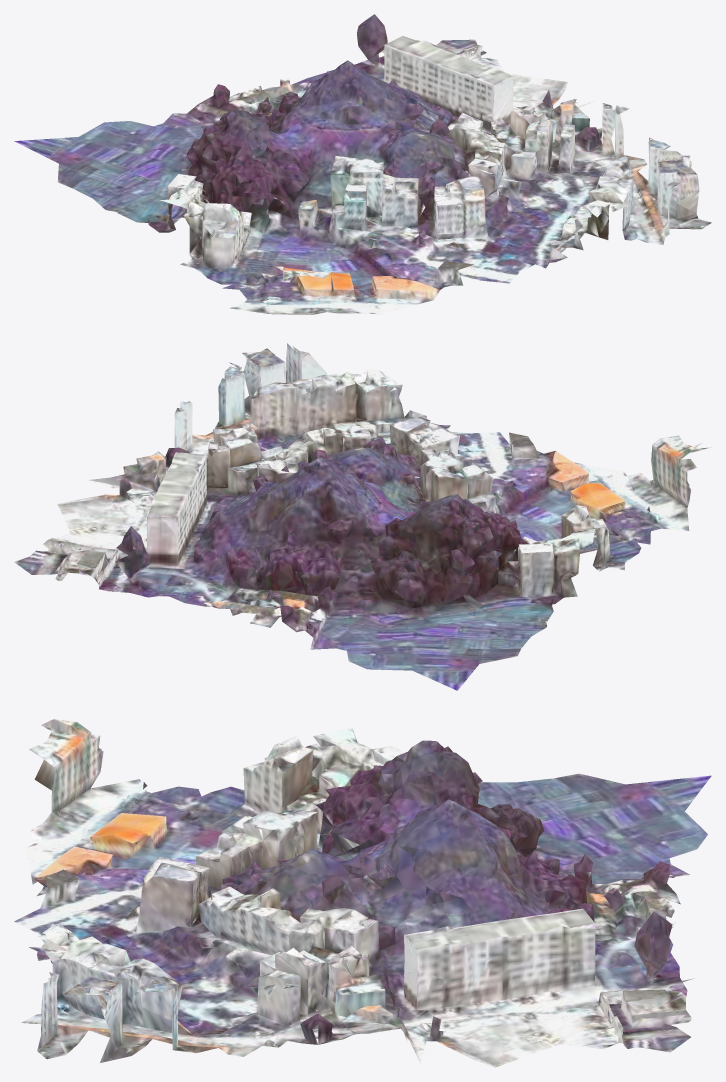
Rendered from Tile_+011_+019.glb.
3 renders of one model, top to bottom at view 1: azimuth 30°, elevation 25°; view 2: azimuth 150°, elevation 25°; view 3: azimuth 270°, elevation 25°, orthographic. The views are drawn at different scales.
Parts seen in each view (by area): view 1: rtc; view 2: rtc; view 3: rtc.
Part boxes in pixels (box(x1,y1,x2,y2)): rtc: box(14, 14, 711, 314); rtc: box(14, 343, 711, 690); rtc: box(14, 719, 711, 1067).
Bounding box in the file's own units: 235 × 49.37 × 228.
Materials: 1 (1 with a texture image).
